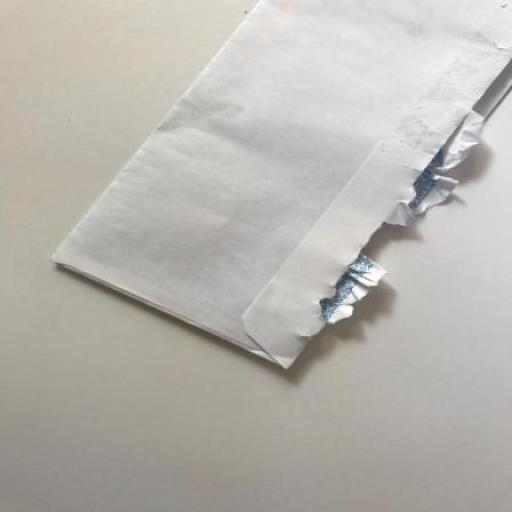paper: (49, 0, 512, 371)
